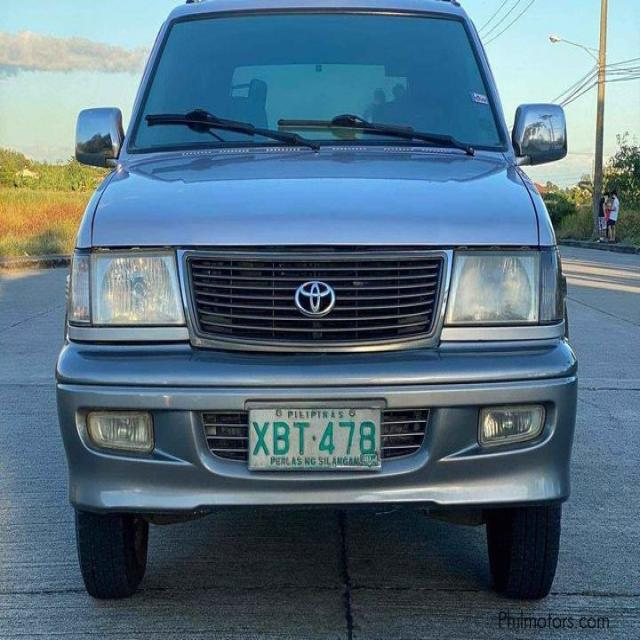number: (249, 405, 380, 471)
